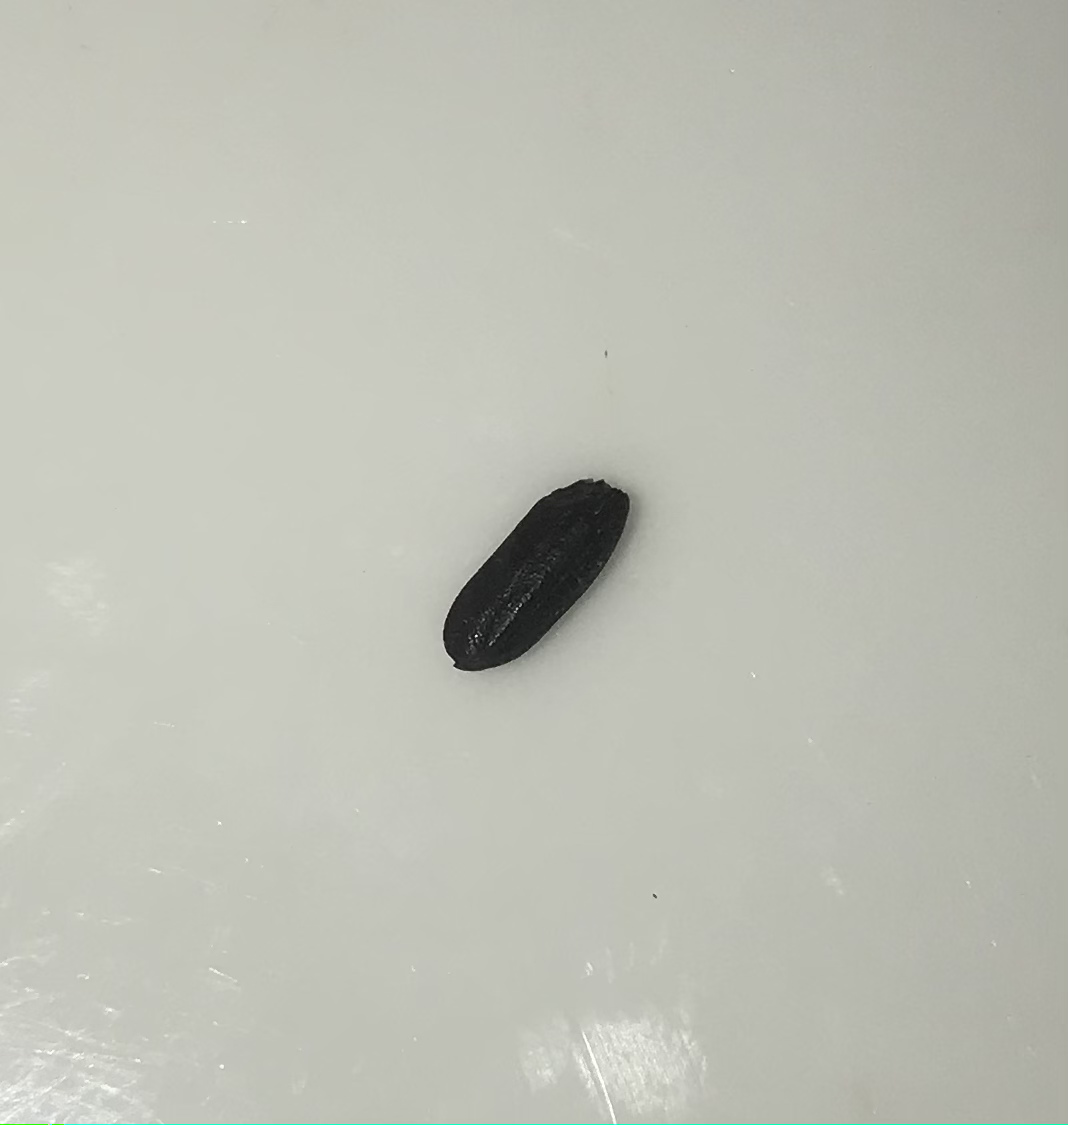Gao lut: (439, 464, 636, 702)
